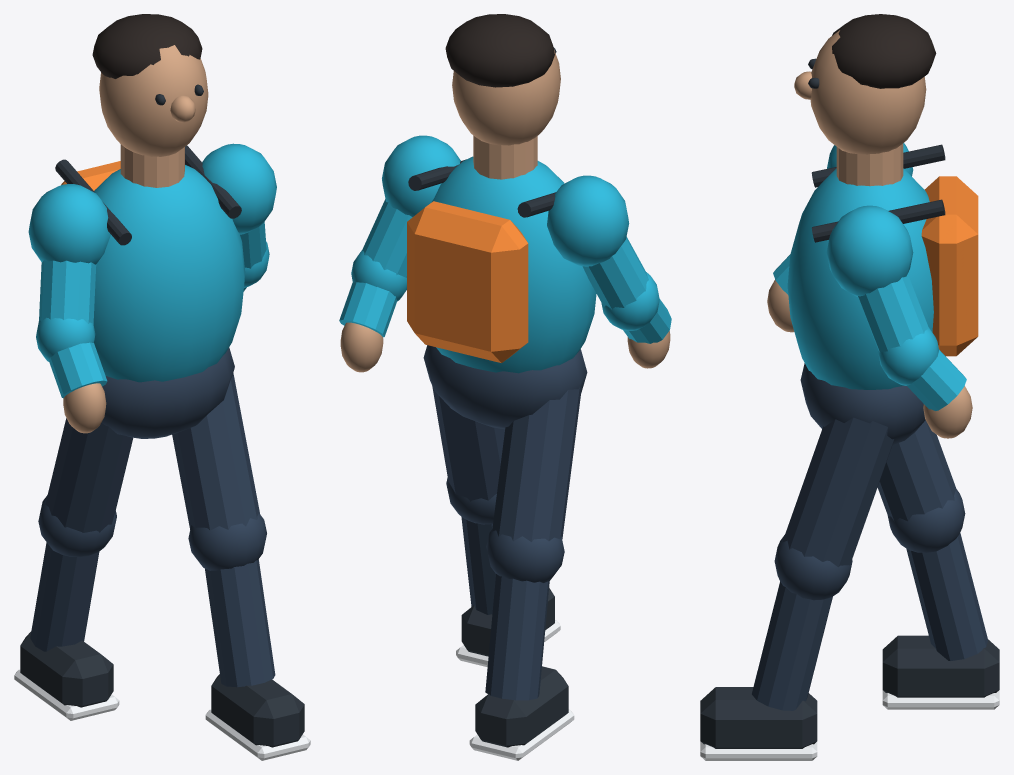
File: taiwan-person.glb
3 views of the same model, side by side, from view 1: azimuth 30°, elevation 25°; view 2: azimuth 150°, elevation 25°; view 3: azimuth 270°, elevation 25° (orthographic). The views are drawn at different scales.
Visible parts, largest first — view 1: Jacket torso, Upper trouser leg.001, Head, Upper trouser leg, Hip and trouser waistband, Lower trouser leg.001, Jacket shoulder, Lower trouser leg, Athletic shoe.001, Hair cap, Athletic shoe, Jacket shoulder.001 (+14 smaller); view 2: Close-fitting daypack, Jacket torso, Upper trouser leg, Hip and trouser waistband, Lower trouser leg, Hair cap, Head, Jacket shoulder, Upper trouser leg.001, Athletic shoe, Jacket shoulder.001, Connected trouser knee (+16 smaller); view 3: Jacket torso, Upper trouser leg.001, Close-fitting daypack, Head, Lower trouser leg.001, Lower trouser leg, Hair cap, Jacket shoulder.001, Athletic shoe.001, Athletic shoe, Upper trouser leg, Hip and trouser waistband (+12 smaller).
Part boxes in pixels (x1,y1,x2,y2): Jacket torso: (93,165,245,382); Upper trouser leg.001: (172,373,259,530); Head: (99,45,208,156); Upper trouser leg: (45,418,133,532); Hip and trouser waistband: (101,347,234,438); Lower trouser leg.001: (205,559,275,687); Jacket shoulder: (28,184,110,264); Lower trouser leg: (30,542,99,651); Athletic shoe.001: (211,674,304,747); Hair cap: (92,14,202,78); Athletic shoe: (20,631,113,707); Jacket shoulder.001: (202,143,276,234); Close-fitting daypack: (407,201,528,362); Jacket torso: (431,156,596,373); Upper trouser leg: (492,382,581,541); Hip and trouser waistband: (423,345,587,429); Lower trouser leg: (485,574,549,700); Hair cap: (445,14,554,87); Head: (452,50,560,145); Jacket shoulder: (547,175,629,266); Upper trouser leg.001: (432,386,504,501); Athletic shoe: (475,666,568,747); Jacket shoulder.001: (382,135,460,216); Connected trouser knee: (486,529,564,582); Jacket torso: (787,168,933,389); Upper trouser leg.001: (782,410,893,567); Close-fitting daypack: (921,176,978,356); Head: (810,30,926,154); Lower trouser leg.001: (752,581,832,710); Lower trouser leg: (906,533,987,660); Hair cap: (832,14,936,88); Jacket shoulder.001: (826,205,913,296); Athletic shoe.001: (700,687,817,748); Athletic shoe: (882,635,999,697); Upper trouser leg: (877,420,957,521); Hip and trouser waistband: (800,363,925,444).
Size of the model in its own units: 0.722 by 1.79 by 0.69.
